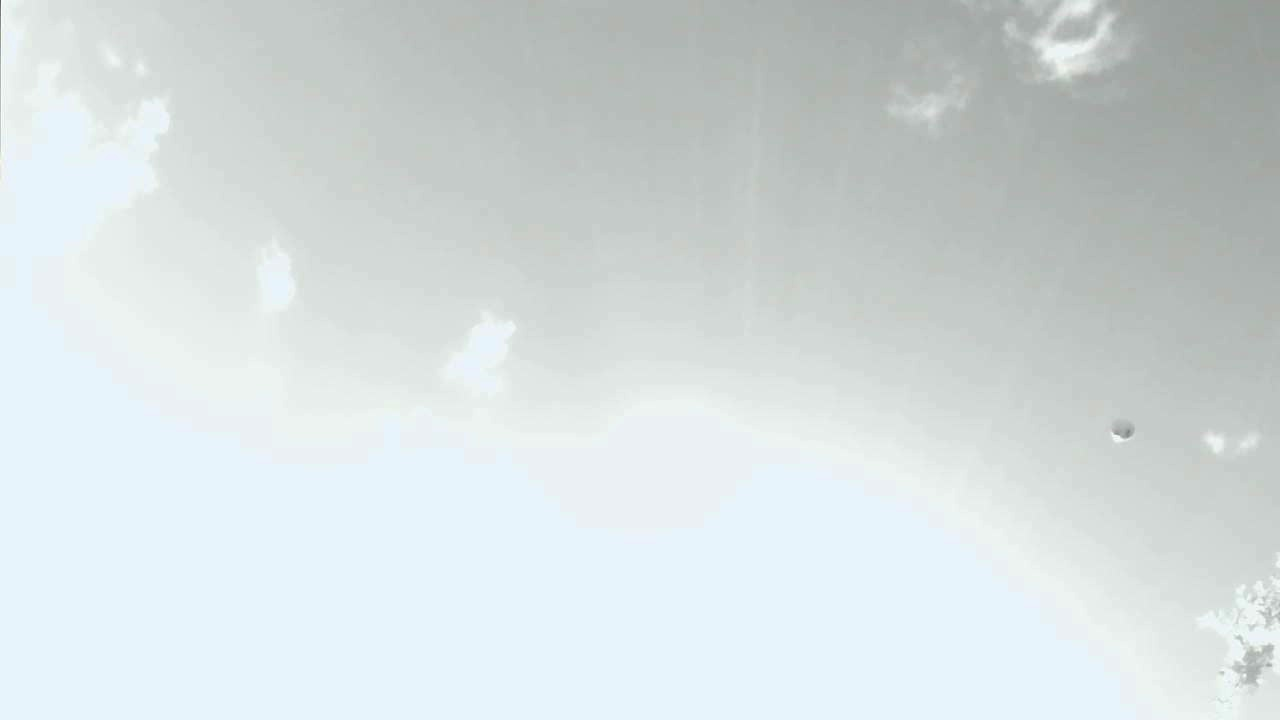Football-Spotter: (1111, 420, 1134, 441)
